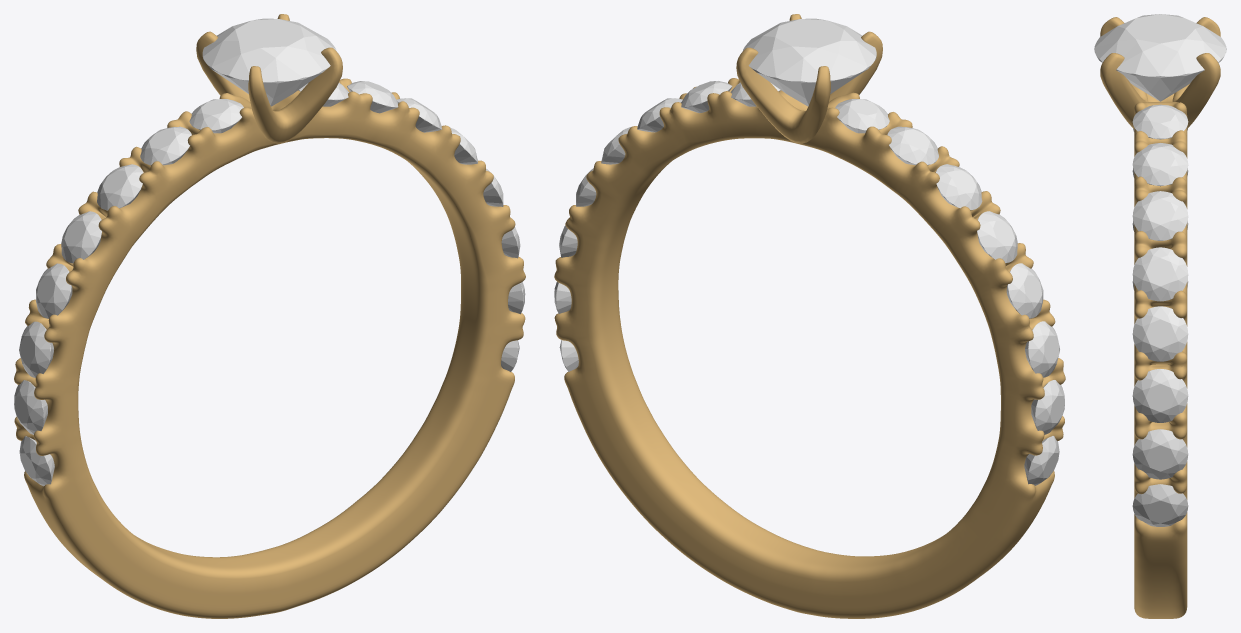
The model's file is ring_clean.glb.
3 renders of one model, left to right at view 1: azimuth 30°, elevation 25°; view 2: azimuth 150°, elevation 25°; view 3: azimuth 270°, elevation 25°, orthographic.
Parts seen in each view (by area): view 1: gold, Diamond, frame_diamond, Diamond.012, Diamond.011, Diamond.013, Diamond.010, Diamond.014, Diamond.009, Diamond.015, Diamond.016, Diamond.002; view 2: gold, Diamond, frame_diamond, Diamond.012, Diamond.011, Diamond.013, Diamond.010, Diamond.014, Diamond.009, Diamond.015, Diamond.016, Diamond.002; view 3: gold, Diamond, frame_diamond, Diamond.005, Diamond.006, Diamond.004, Diamond.007, Diamond.003, Diamond.002, Diamond.008, Diamond.001.
Boxes of the visible parts, bbox=[...] form: gold: bbox=[14, 78, 525, 618]; Diamond: bbox=[202, 18, 336, 106]; frame_diamond: bbox=[196, 14, 342, 143]; Diamond.012: bbox=[61, 211, 101, 263]; Diamond.011: bbox=[97, 164, 143, 210]; Diamond.013: bbox=[36, 263, 72, 318]; Diamond.010: bbox=[140, 126, 191, 165]; Diamond.014: bbox=[19, 321, 53, 377]; Diamond.009: bbox=[189, 99, 243, 133]; Diamond.015: bbox=[14, 380, 47, 434]; Diamond.016: bbox=[19, 436, 54, 486]; Diamond.002: bbox=[347, 81, 398, 113]; gold: bbox=[554, 78, 1065, 618]; Diamond: bbox=[743, 18, 876, 106]; frame_diamond: bbox=[736, 14, 882, 143]; Diamond.012: bbox=[977, 211, 1017, 263]; Diamond.011: bbox=[935, 164, 982, 210]; Diamond.013: bbox=[1006, 263, 1043, 318]; Diamond.010: bbox=[887, 126, 938, 165]; Diamond.014: bbox=[1025, 321, 1059, 377]; Diamond.009: bbox=[835, 99, 889, 133]; Diamond.015: bbox=[1031, 380, 1064, 434]; Diamond.016: bbox=[1024, 436, 1059, 485]; Diamond.002: bbox=[681, 81, 732, 113]; gold: bbox=[1134, 93, 1187, 618]; Diamond: bbox=[1094, 14, 1226, 101]; frame_diamond: bbox=[1100, 17, 1220, 128]; Diamond.005: bbox=[1132, 306, 1188, 361]; Diamond.006: bbox=[1132, 369, 1188, 422]; Diamond.004: bbox=[1132, 247, 1188, 301]; Diamond.007: bbox=[1132, 429, 1188, 479]; Diamond.003: bbox=[1132, 191, 1188, 240]; Diamond.002: bbox=[1132, 143, 1188, 186]; Diamond.008: bbox=[1132, 484, 1188, 526]; Diamond.001: bbox=[1132, 104, 1188, 139].
Bounding box in the file's own units: 1.34 × 1.48 × 0.3144.
